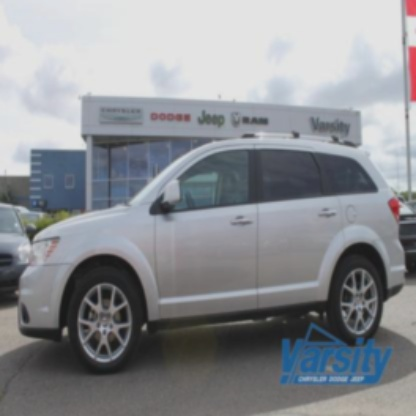Vehicle: (17, 132, 405, 377)
